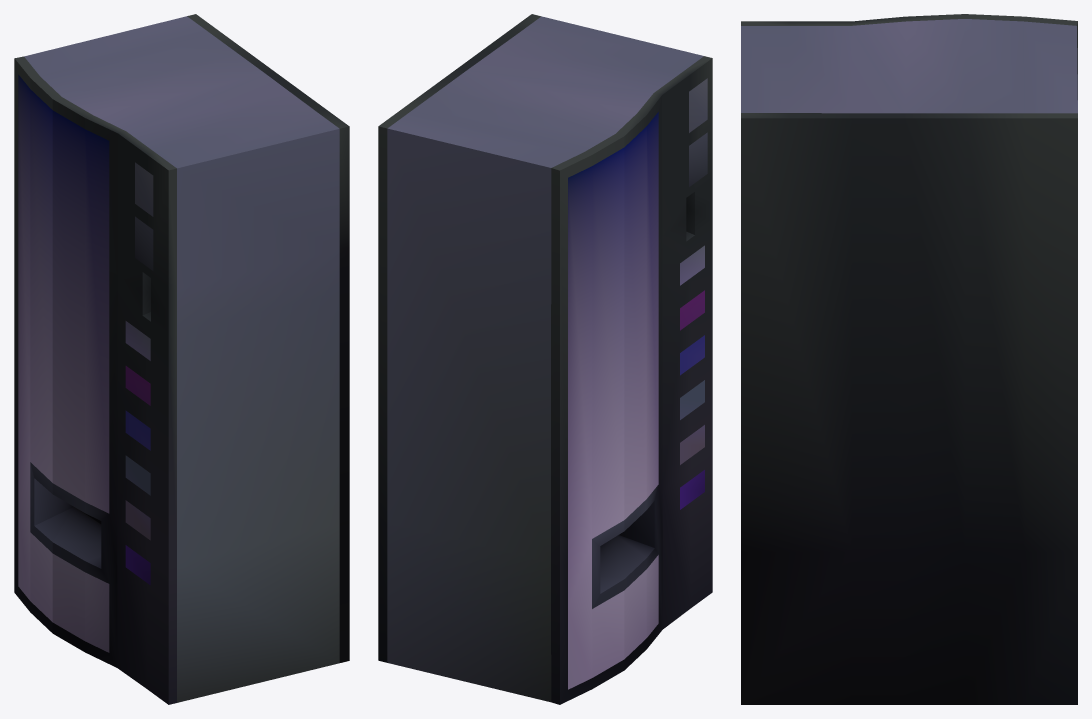
The model's file is VendingMachine.glb.
3 renders of one model, left to right at view 1: azimuth 30°, elevation 25°; view 2: azimuth 150°, elevation 25°; view 3: azimuth 270°, elevation 25°, orthographic. The views are drawn at different scales.
Visible parts, largest first — view 1: Cube.004; view 2: Cube.004; view 3: Cube.004.
Boxes of the visible parts, x1,y1,x2,y2 form: Cube.004: [14, 14, 349, 704]; Cube.004: [378, 14, 712, 704]; Cube.004: [741, 14, 1077, 704].
Size of the model in its own units: 2.41 by 6.32 by 3.29.
